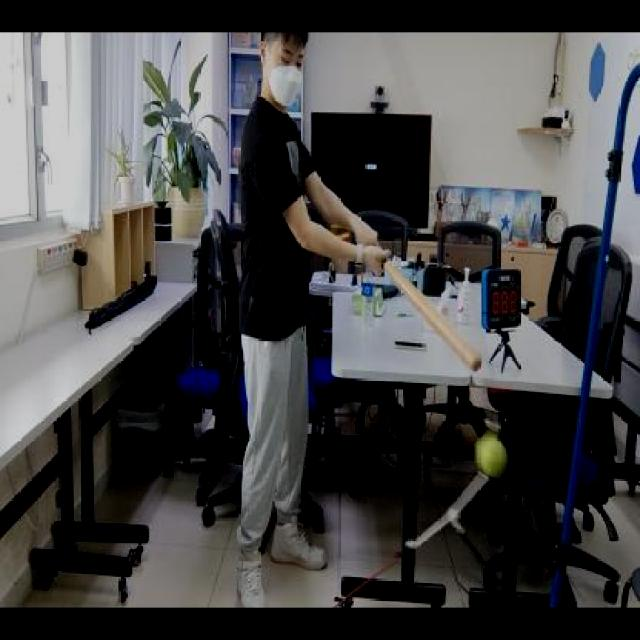ball: (474, 438, 508, 476)
bat: (383, 262, 483, 372)
